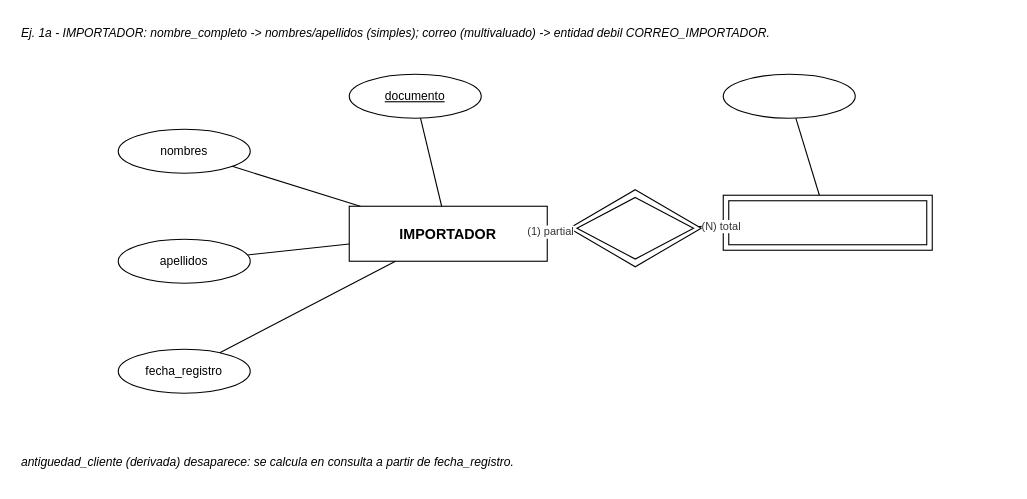
Some shapes in this 1027 by 499 pixel diagram are drawn without their labels. The centre of each missing label's shape, as x and y in pixels:
"correo" goes at point (788, 95).
"CORREO_IMPORTADOR" goes at point (827, 222).
"TIENE_CORREO" goes at point (635, 227).
